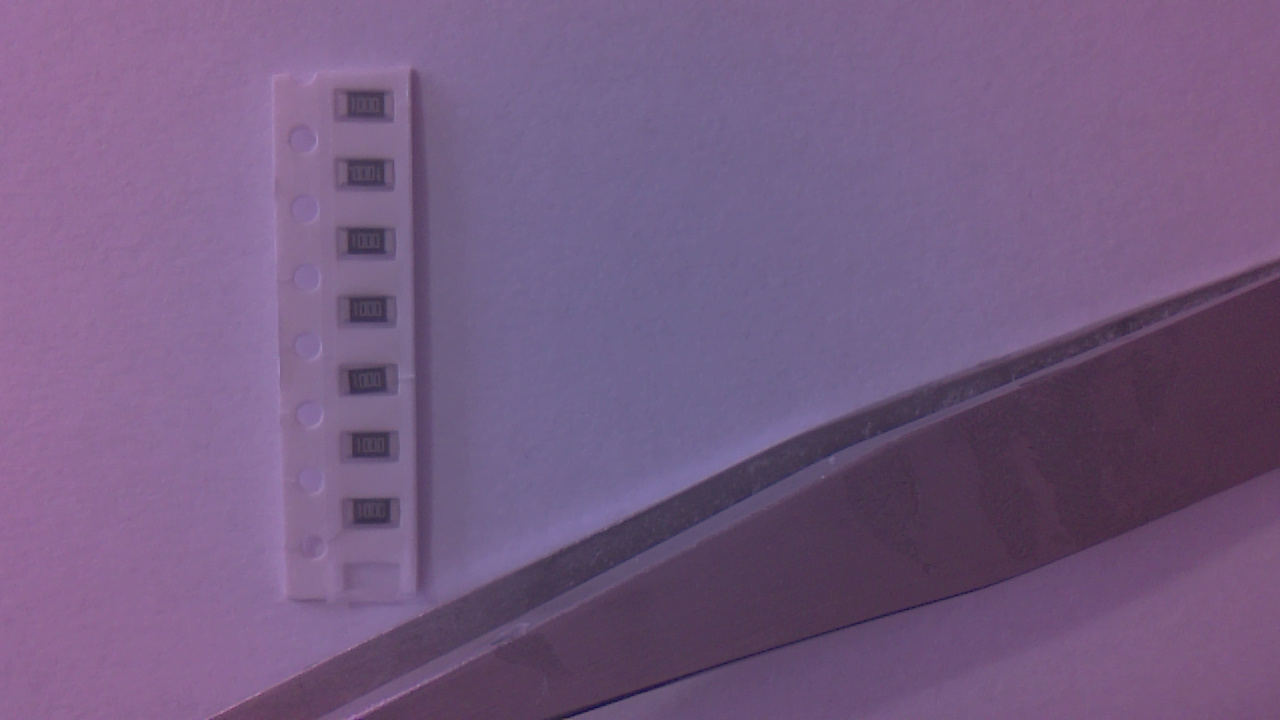Resistor: (346, 430, 407, 468), (344, 367, 404, 402), (338, 93, 400, 126), (341, 162, 402, 195), (344, 299, 402, 332), (350, 501, 406, 532), (344, 232, 399, 263)
